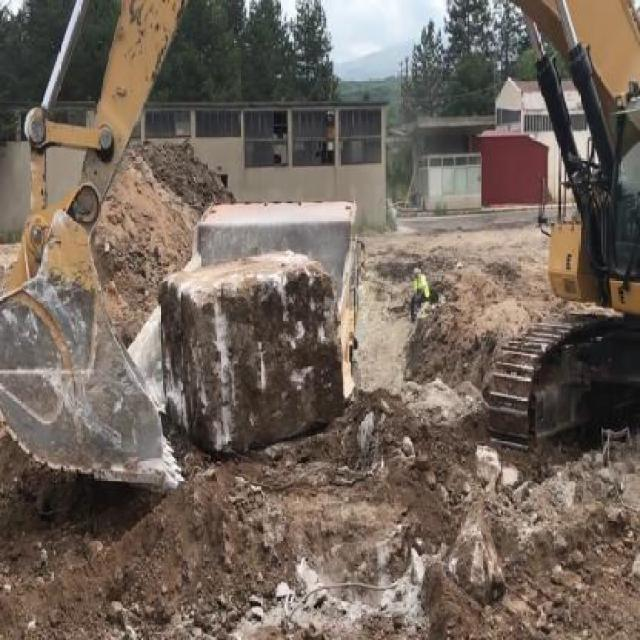Excavator: (0, 0, 639, 478)
